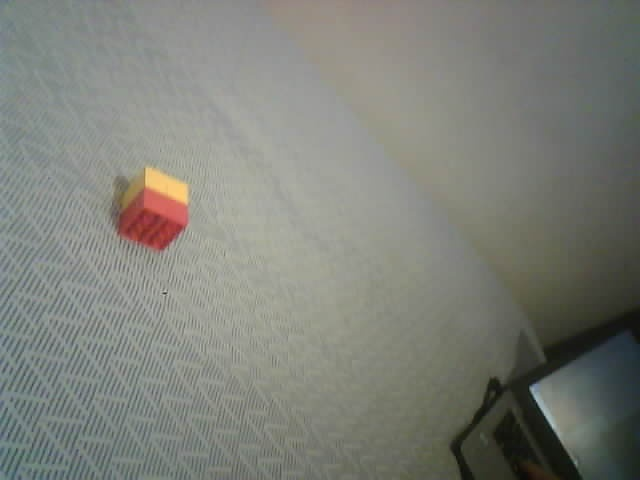lego: (116, 166, 190, 253)
